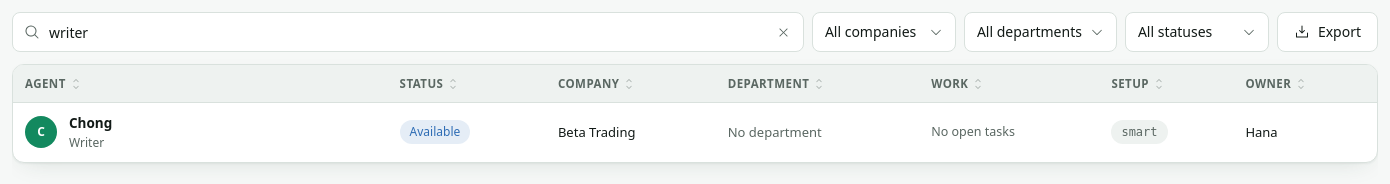
Scenario: the agents table › finds by role and opens an agent's page
The image size is (1390, 184).
Check: the number of rows is 2, box [13,65,1377,103]; [13,103,1377,162]
Click the button "C Chong Writer": (69, 132) [25,113,112,152]
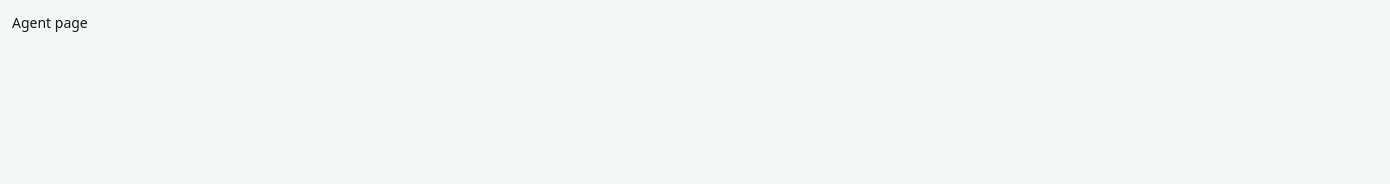
Check: the text "Agent page" is shown, box [12,13,88,32]
